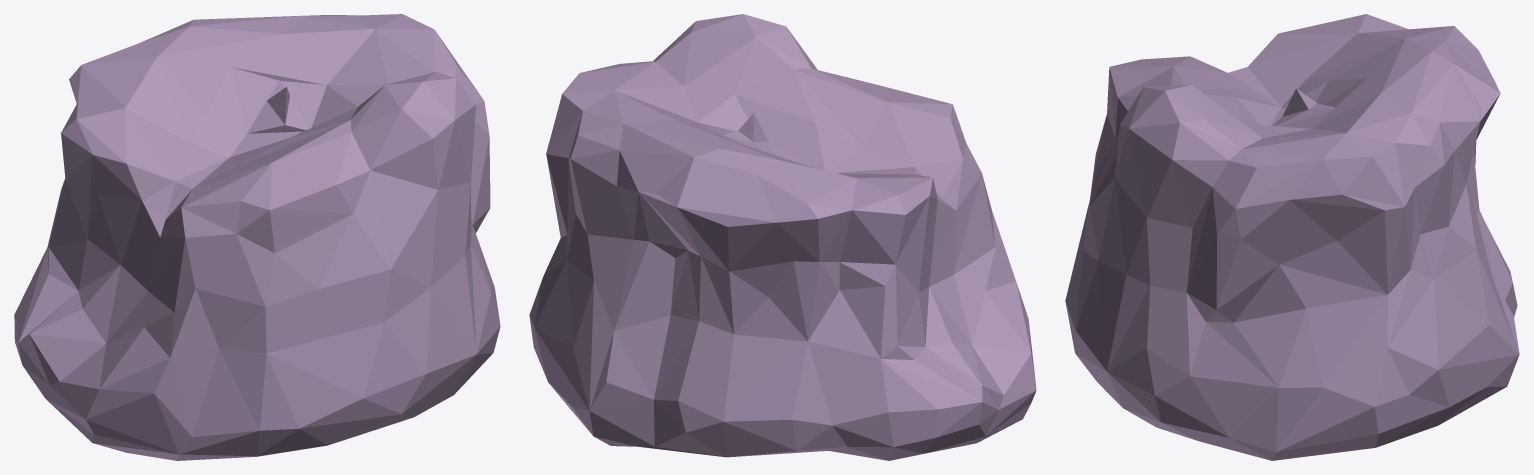
The model's file is candle_3.fbx.
3 views of the same model, side by side, from view 1: azimuth 30°, elevation 25°; view 2: azimuth 150°, elevation 25°; view 3: azimuth 270°, elevation 25° (orthographic). The views are drawn at different scales.
Parts seen in each view (by area): view 1: Candle_3; view 2: Candle_3; view 3: Candle_3.
Part boxes in pixels (x1,y1,x2,y2): Candle_3: (14,14,500,460); Candle_3: (529,14,1036,460); Candle_3: (1065,14,1519,460).
Size of the model in its own units: 8.25 by 5.91 by 7.26.
